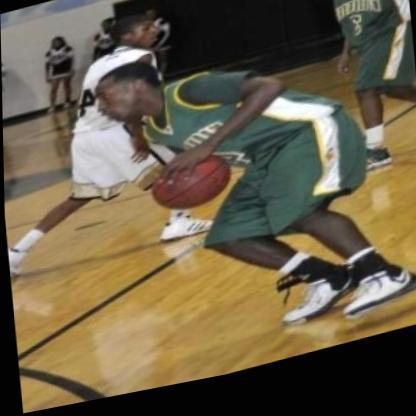basketball: (141, 149, 237, 233)
